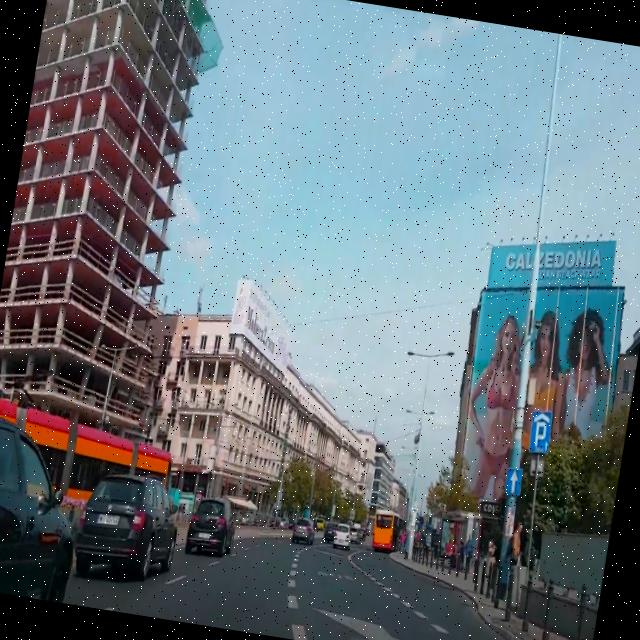Zakaz zatrzymywania sie: (402, 504, 408, 516)
